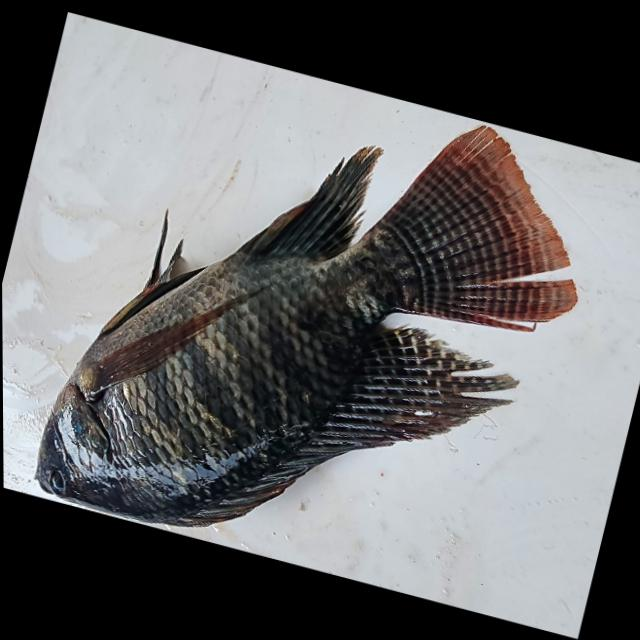Tilapia: (22, 34, 616, 620)
